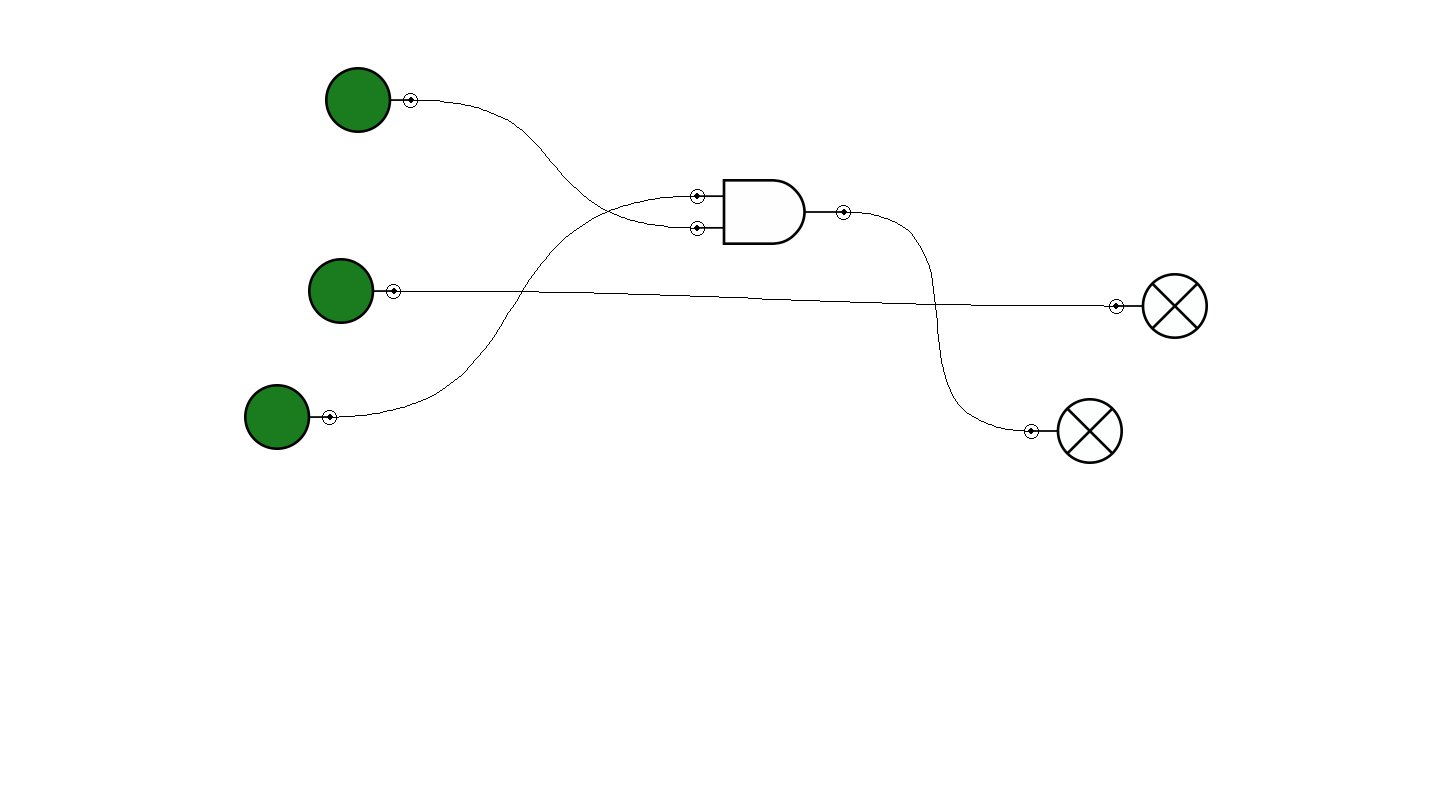and: (690, 179, 851, 245)
bulb: (1109, 273, 1208, 339), (1024, 398, 1123, 464)
switch_True: (325, 67, 418, 133), (308, 258, 401, 324), (244, 384, 337, 450)
